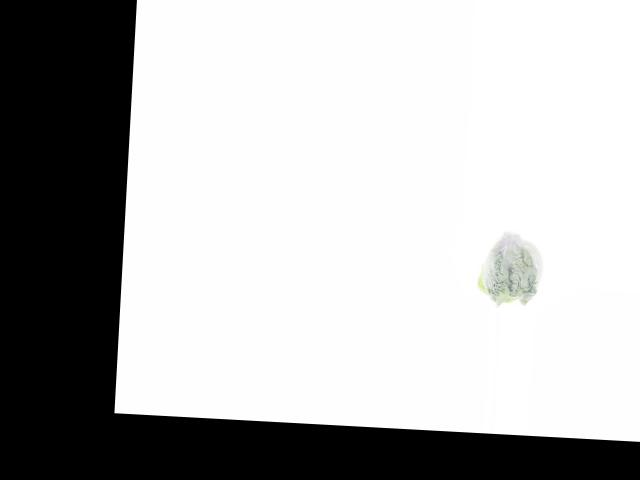lettuce: (473, 230, 546, 307)
